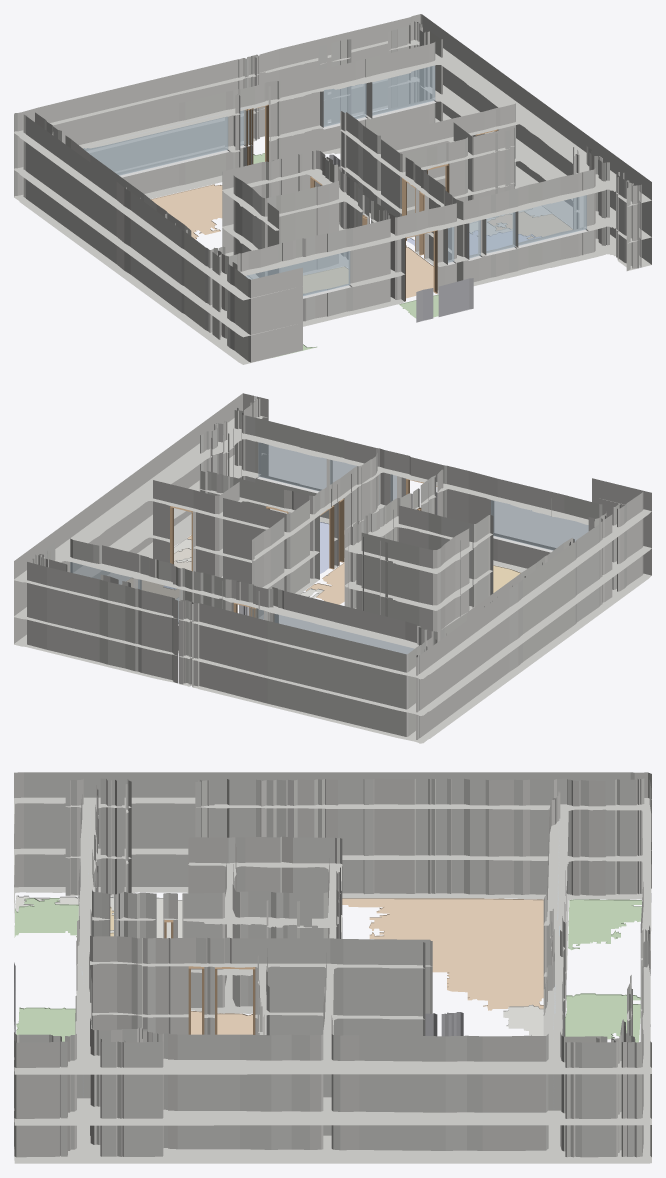
3 renders of one model, top to bottom at view 1: azimuth 30°, elevation 25°; view 2: azimuth 150°, elevation 25°; view 3: azimuth 270°, elevation 25°, orthographic. The views are drawn at different scales.
Visible parts, largest first — view 1: walls, window_9, window_16, floor_13_Living_Room, window_12, window_13, railings, window_11, floor_7_Living_Room, window_15, floor_8_Living_Room, floor_5_Kitchen (+1 smaller); view 2: walls, window_13, window_16, window_9, floor_8_Living_Room, window_12; view 3: walls, floor_13_Living_Room, floor_3_Outdoor, floor_4_Outdoor, floor_1_Outdoor, floor_0_Outdoor, floor_8_Living_Room, railings, floor_30_Undefined, floor_22_Undefined.
Part boxes in pixels (x1,y1,x2,y2): walls: (14,14,651,364); window_9: (83,113,228,175); window_16: (518,195,586,245); floor_13_Living_Room: (151,184,222,239); window_12: (372,65,435,115); window_13: (243,251,350,296); railings: (329,154,473,322); window_11: (322,83,366,126); floor_7_Living_Room: (488,211,572,238); window_15: (486,212,515,253); floor_8_Living_Room: (406,245,433,298); floor_5_Kitchen: (303,266,348,293); walls: (14,393,651,743); window_13: (491,500,588,550); window_16: (258,442,329,491); window_9: (274,614,413,654); floor_8_Living_Room: (305,562,344,604); window_12: (70,562,133,587); walls: (14,772,651,1163); floor_13_Living_Room: (342,898,543,1010); floor_3_Outdoor: (565,993,640,1042); floor_4_Outdoor: (568,899,642,950); floor_1_Outdoor: (14,898,78,937); floor_0_Outdoor: (16,1007,75,1041); floor_8_Living_Room: (191,1011,252,1034); railings: (14,962,563,1036); floor_30_Undefined: (503,1004,543,1035); floor_22_Undefined: (110,897,182,938).
Bounding box in the file's own units: 13.98 × 2.72 × 13.61.
